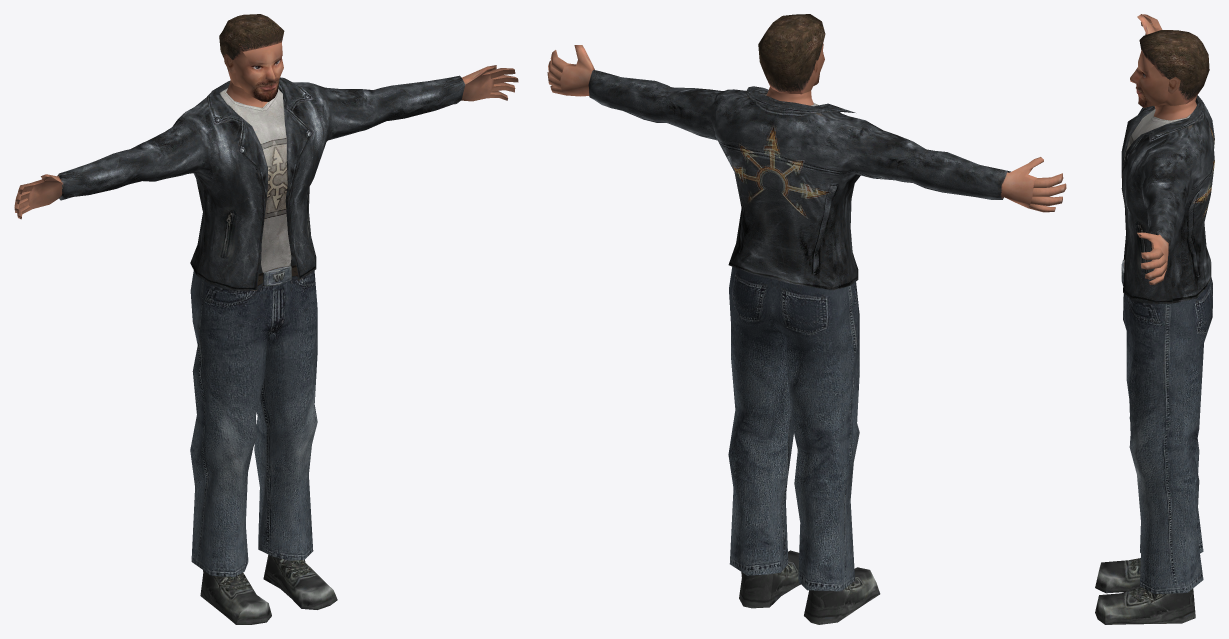
File: FO1male.obj
3 views of the same model, side by side, from view 1: azimuth 30°, elevation 25°; view 2: azimuth 150°, elevation 25°; view 3: azimuth 270°, elevation 25° (orthographic). The views are drawn at different scales.
Parts seen in each view (by area): view 1: male; view 2: male; view 3: male.
Part boxes in pixels (x1,y1,x2,y2): male: (14,14,518,624); male: (547,14,1066,624); male: (1095,14,1214,624).
Bounding box in the file's own units: 2.45 × 2.65 × 0.5097.
